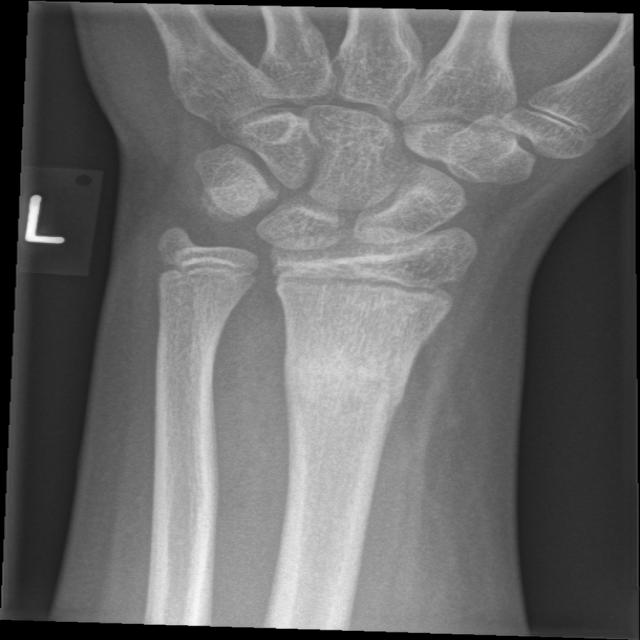radius fracture: (258, 306, 471, 473)
